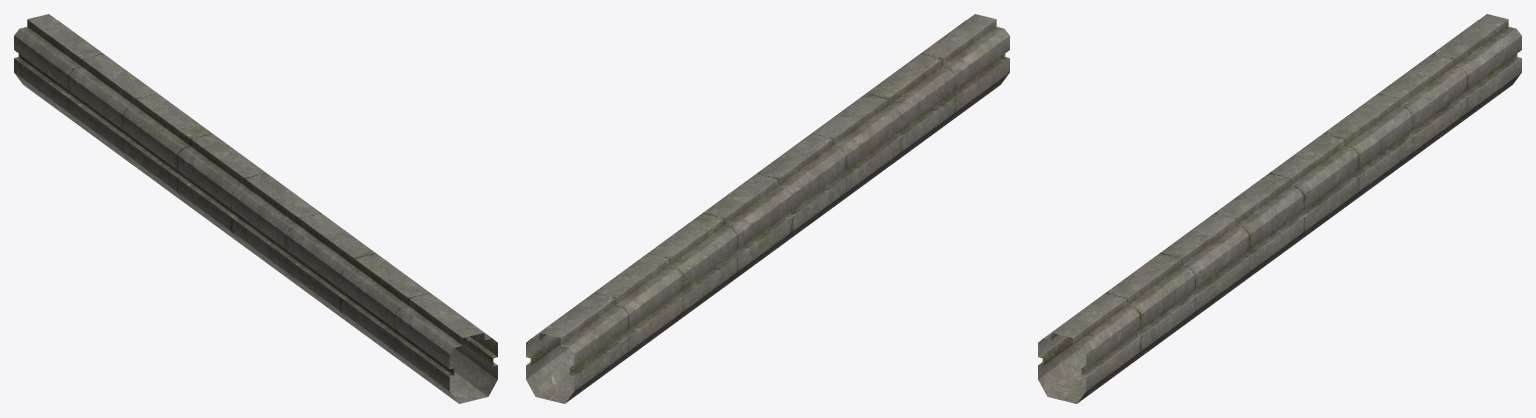
Rendered from Railing_base01.fbx.
The picture shows the model from 3 angles, left to right: view 1: azimuth 30°, elevation 25°; view 2: azimuth 150°, elevation 25°; view 3: azimuth 330°, elevation 25°; orthographic projection.
Parts seen in each view (by area): view 1: Railing_base01; view 2: Railing_base01; view 3: Railing_base01.
Part boxes in pixels (x1,y1,x2,y2): Railing_base01: (14, 14, 497, 403); Railing_base01: (526, 14, 1009, 403); Railing_base01: (1038, 14, 1521, 403).
Size of the model in its own units: 31.96 by 41.2 by 500.
